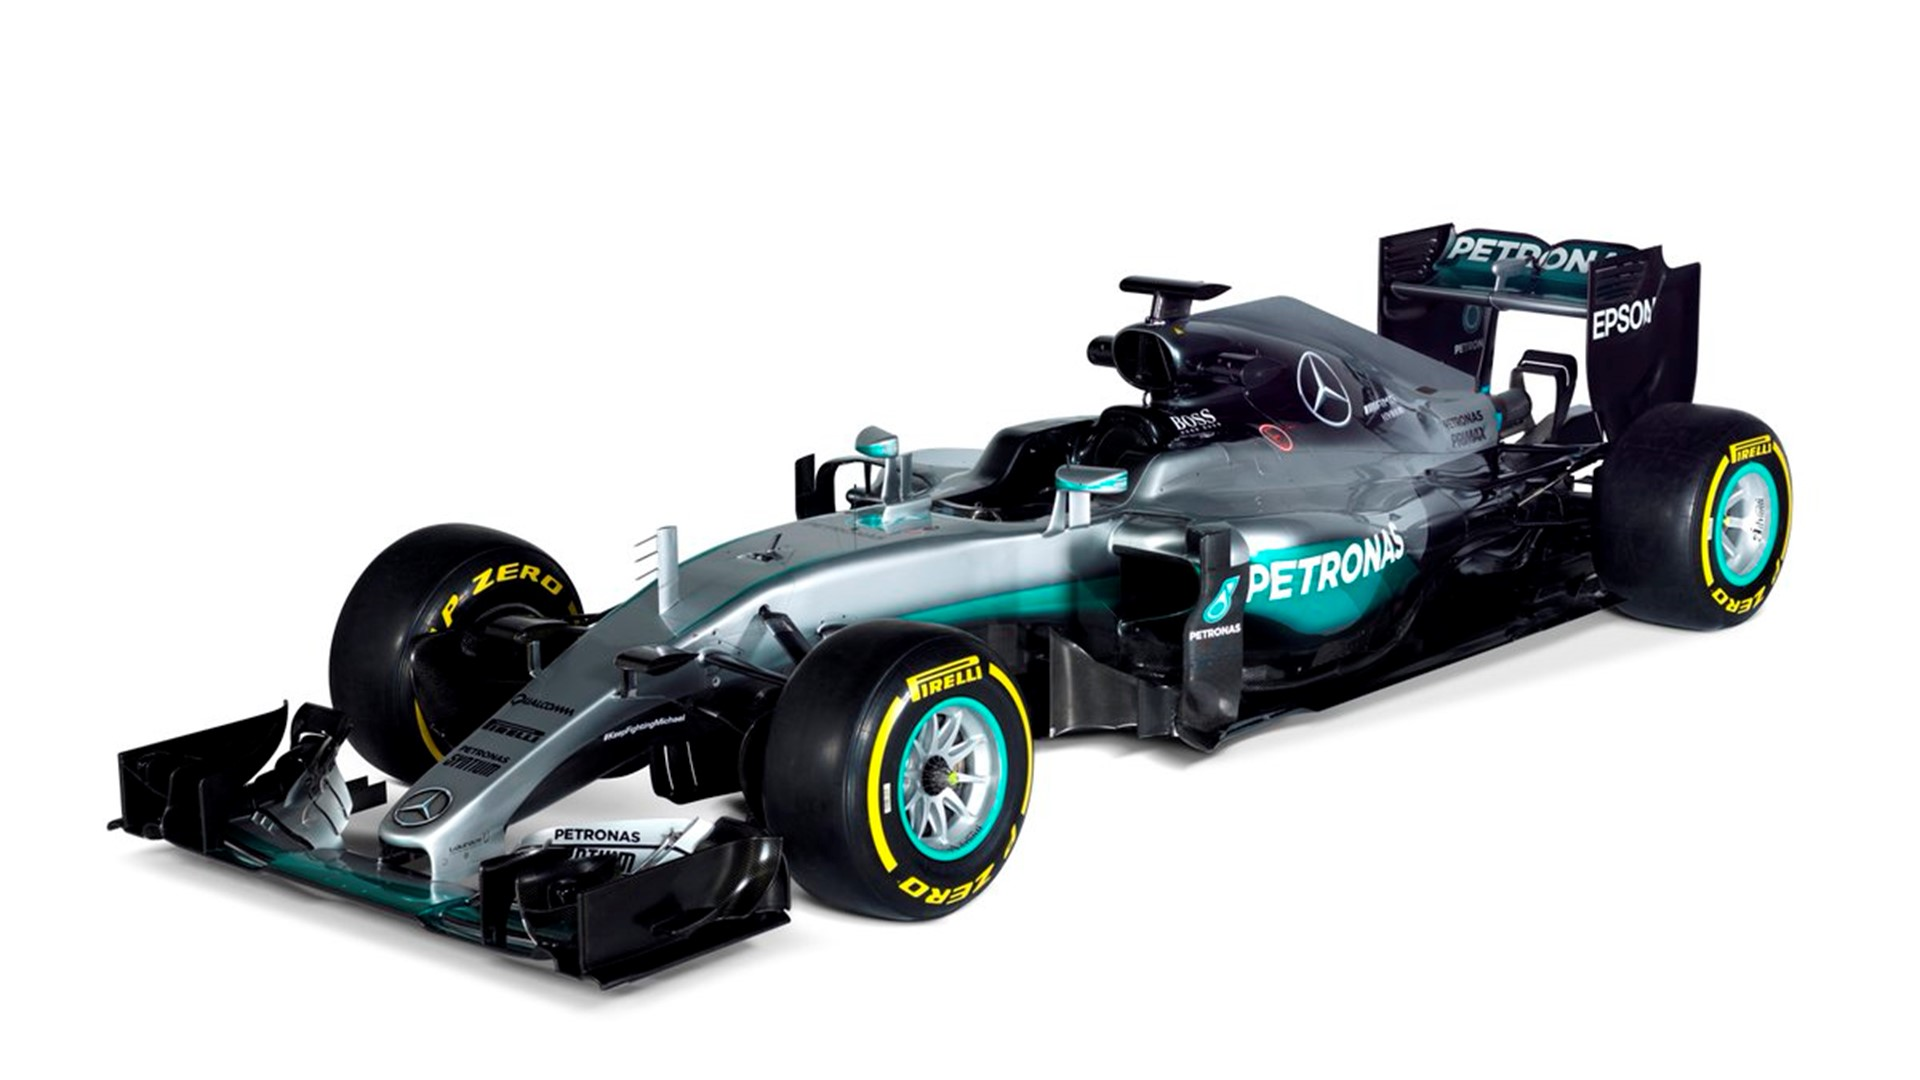f1_car: (87, 186, 1818, 1027)
